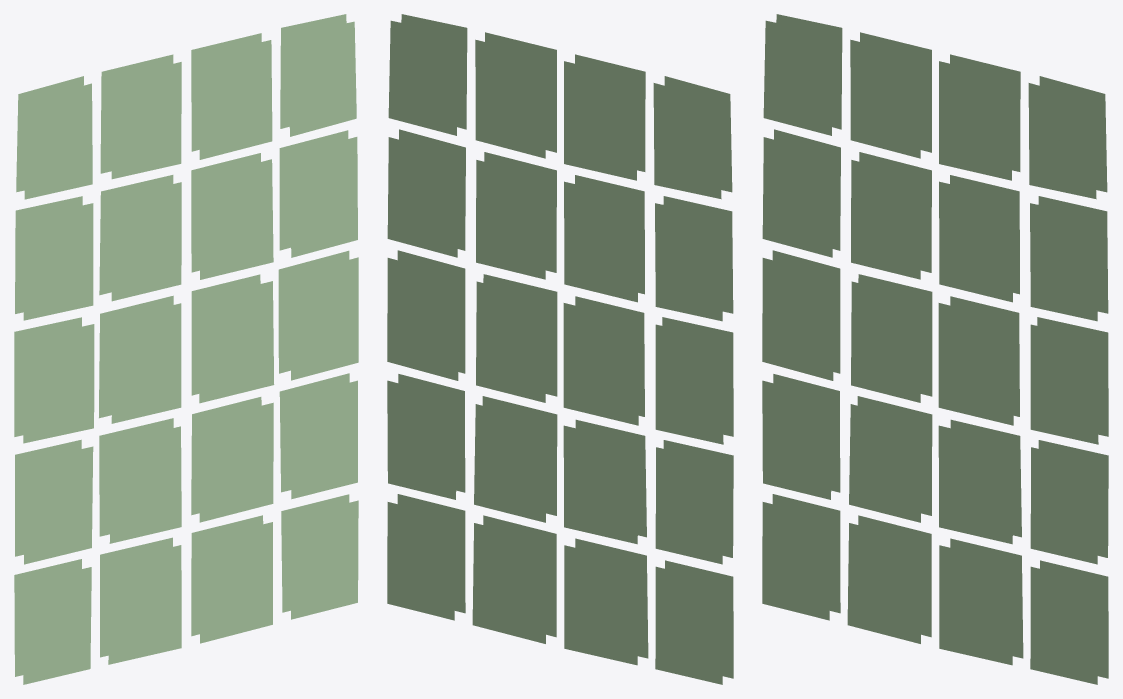
Rendered from Door_100x200_01_WashiLight_Mesh.fbx.
The picture shows the model from 3 angles, left to right: view 1: azimuth 30°, elevation 25°; view 2: azimuth 150°, elevation 25°; view 3: azimuth 330°, elevation 25°; orthographic projection.
Parts seen in each view (by area): view 1: Door_100x200_01_WashiLight_LOD0_Front, Door_100x200_01_WashiLight_LOD0_Back; view 2: Door_100x200_01_WashiLight_LOD0_Back, Door_100x200_01_WashiLight_LOD0_Front; view 3: Door_100x200_01_WashiLight_LOD0_Front, Door_100x200_01_WashiLight_LOD0_Back.
Part boxes in pixels (x1,y1,x2,y2): Door_100x200_01_WashiLight_LOD0_Front: (23,21,358,684); Door_100x200_01_WashiLight_LOD0_Back: (14,14,349,676); Door_100x200_01_WashiLight_LOD0_Back: (387,20,723,684); Door_100x200_01_WashiLight_LOD0_Front: (397,14,733,678); Door_100x200_01_WashiLight_LOD0_Front: (762,20,1098,684); Door_100x200_01_WashiLight_LOD0_Back: (772,14,1108,678).
Size of the model in its own units: 80.84 by 135 by 4.02.
